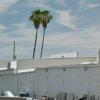Tree: (23, 1, 66, 57)
